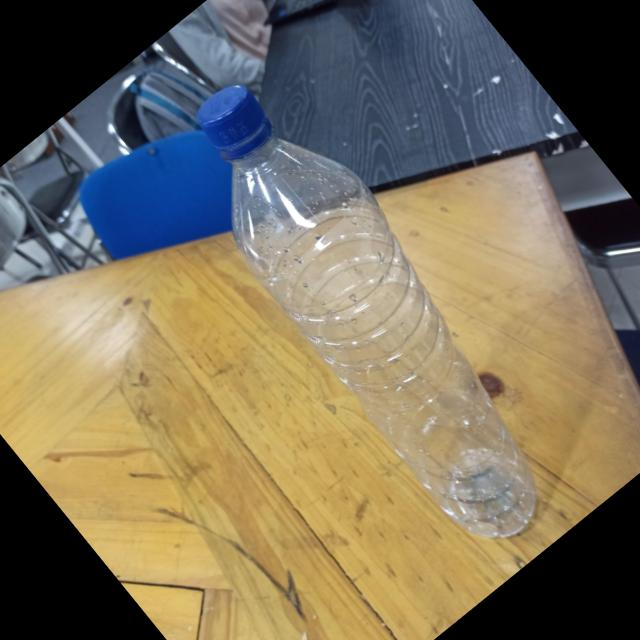BotolPlastik: (145, 54, 598, 564)
